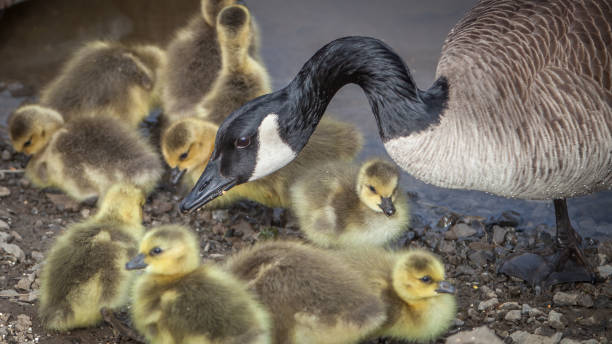goose: (173, 1, 612, 262)
